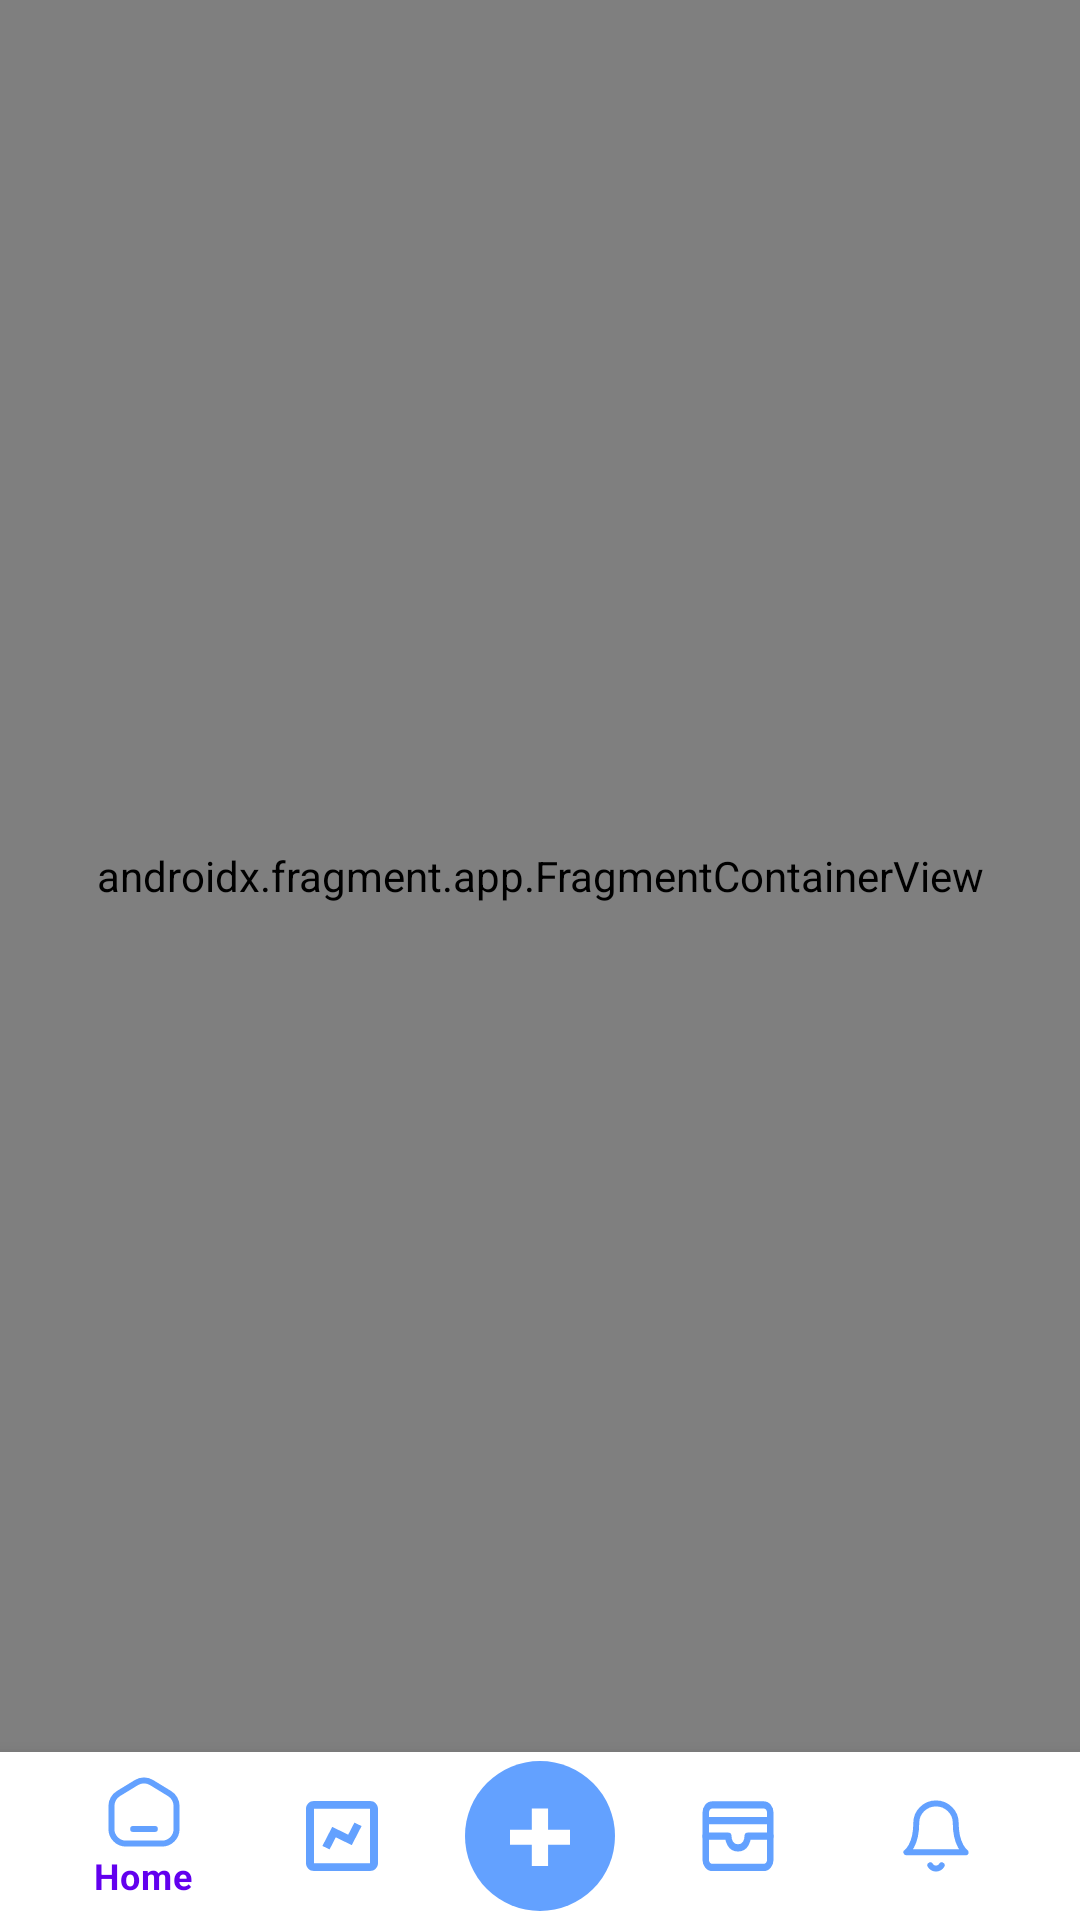

Where to tap for icons on this 1080 x 1920 app screen, as (x=x, y=y):
add spending: (x=540, y=1836)
